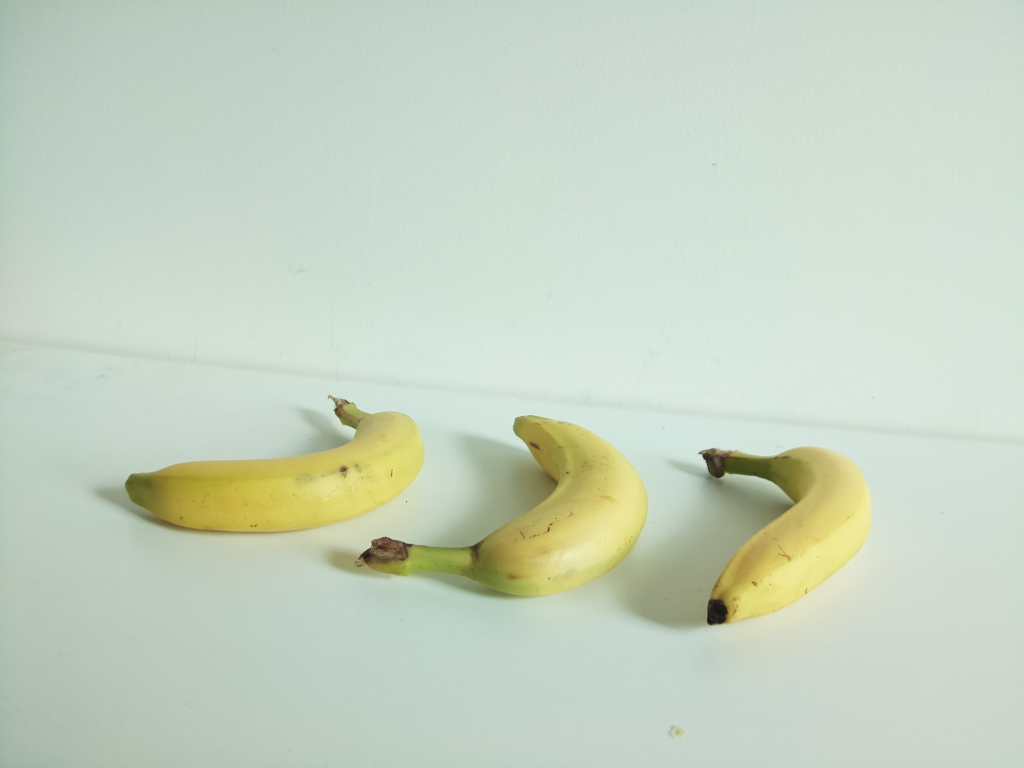banana: (359, 414, 649, 601), (126, 394, 424, 535), (703, 447, 868, 628)
